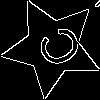C: (27, 22, 85, 76)
